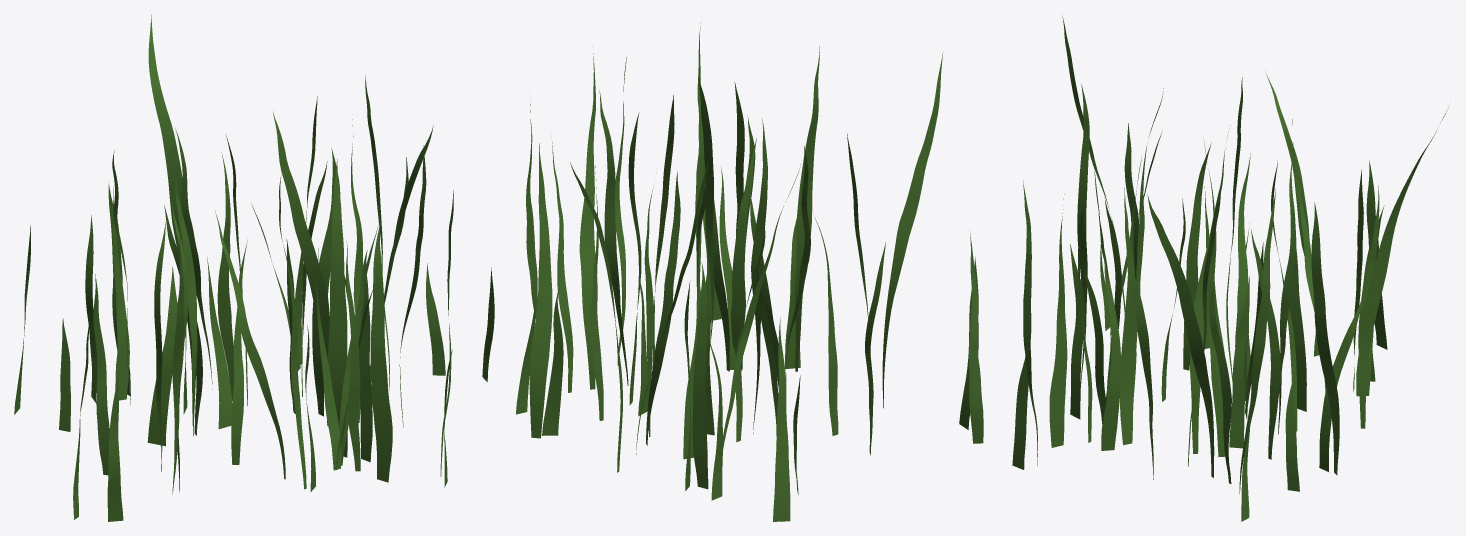
Rendered from plant_swamp_kelp_giant_C_dense.fbx.
3 views of the same model, side by side, from view 1: azimuth 30°, elevation 25°; view 2: azimuth 150°, elevation 25°; view 3: azimuth 270°, elevation 25° (orthographic). The views are drawn at different scales.
Parts seen in each view (by area): view 1: plant_swamp_kelp_giant_C_dense; view 2: plant_swamp_kelp_giant_C_dense; view 3: plant_swamp_kelp_giant_C_dense.
Part boxes in pixels (x1=…): plant_swamp_kelp_giant_C_dense: x1=14, y1=14, x2=453, y2=521; plant_swamp_kelp_giant_C_dense: x1=482, y1=23, x2=983, y2=521; plant_swamp_kelp_giant_C_dense: x1=1012, y1=16, x2=1448, y2=521.
Size of the model in its own units: 683 by 514 by 608.
